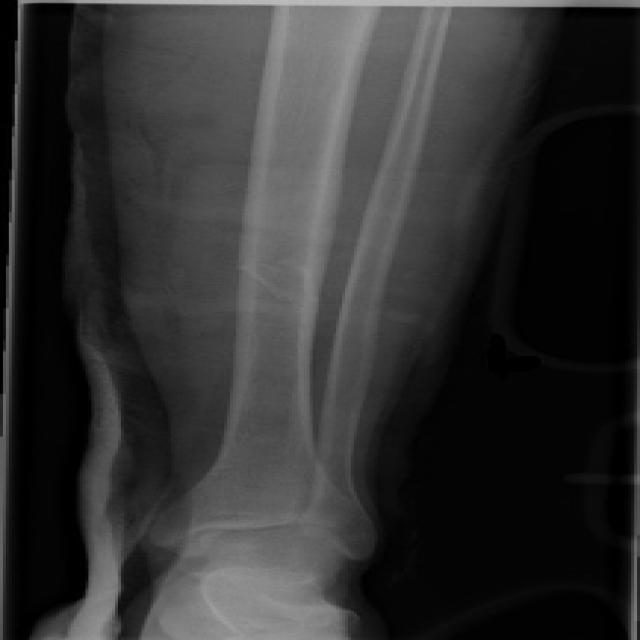Longitudinal: (195, 166, 352, 346)
